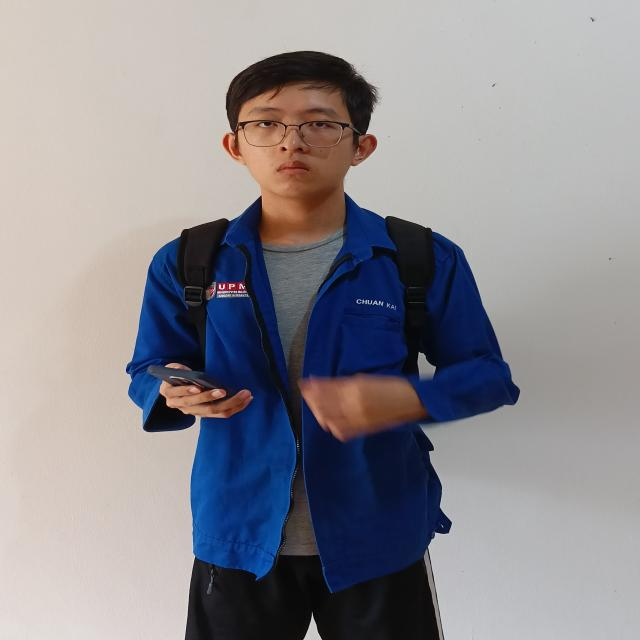person_with_labcoat: (127, 51, 519, 640)
